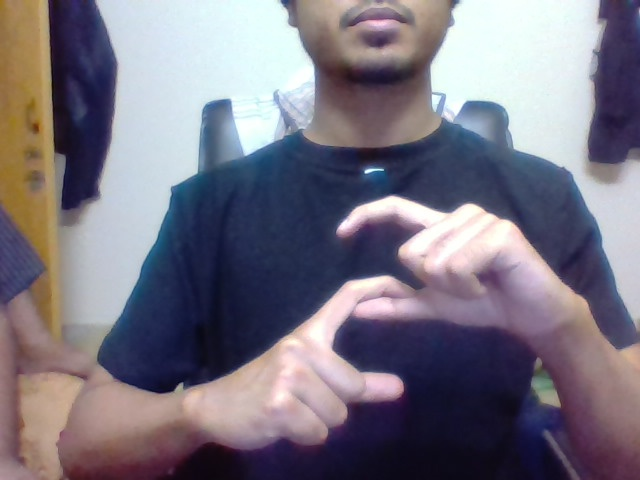S: (313, 192, 419, 406)
